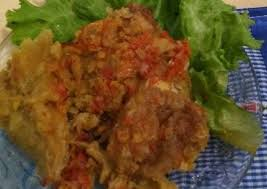ayam_geprek: (9, 24, 225, 185)
